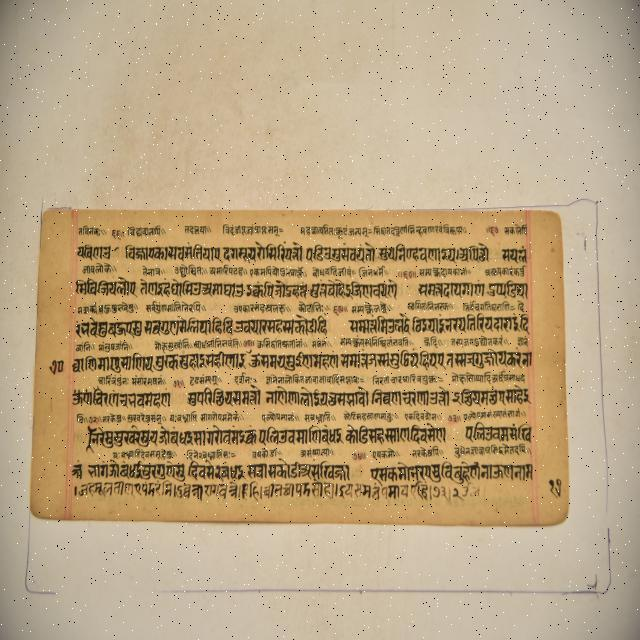text_paragraph: (29, 209, 565, 523)
